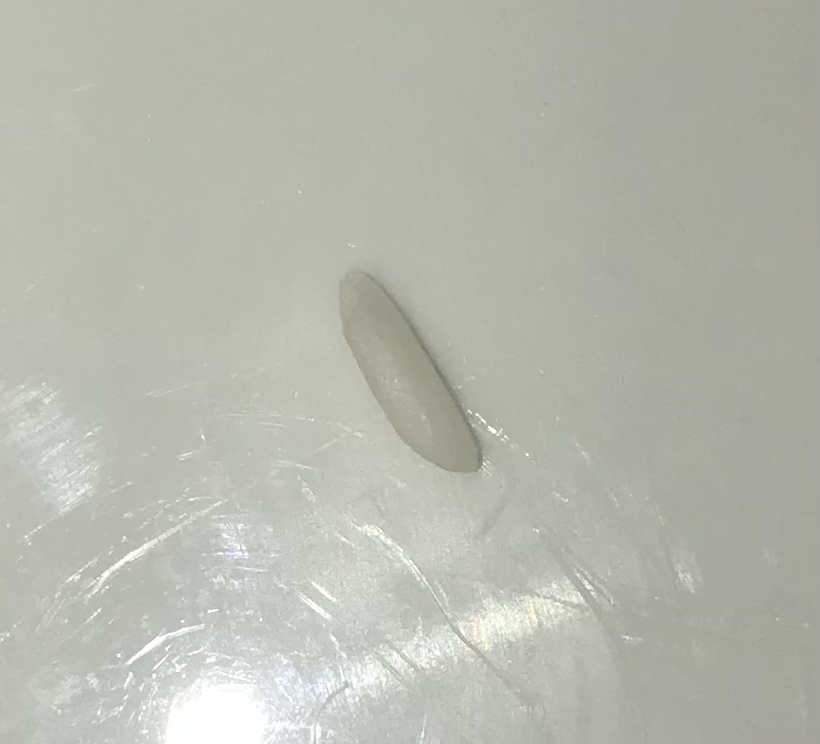Gao Thom Go Cong: (317, 256, 496, 500)
